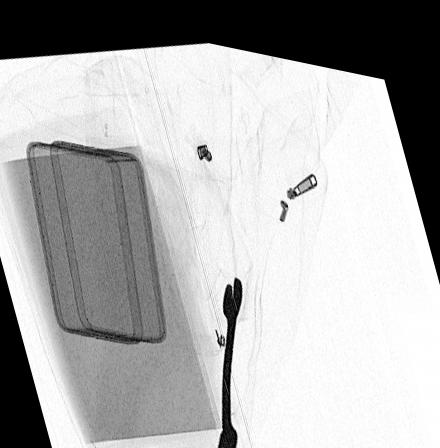Wrench: (215, 264, 243, 448)
